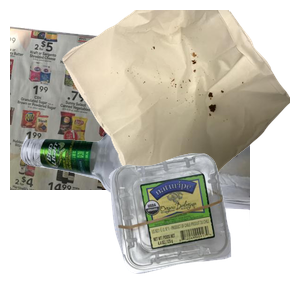glass: (18, 124, 258, 300)
paper: (10, 21, 222, 201)
plastic: (106, 151, 300, 300)
trash: (60, 10, 300, 190)
